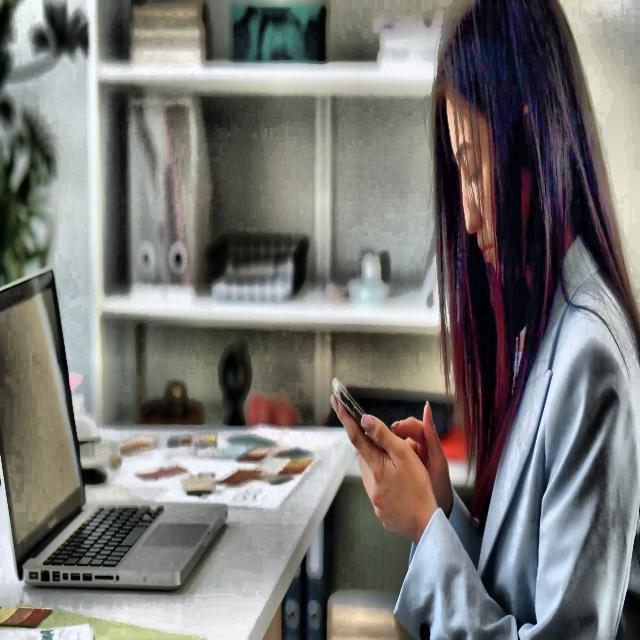Phone: (331, 374, 369, 430)
